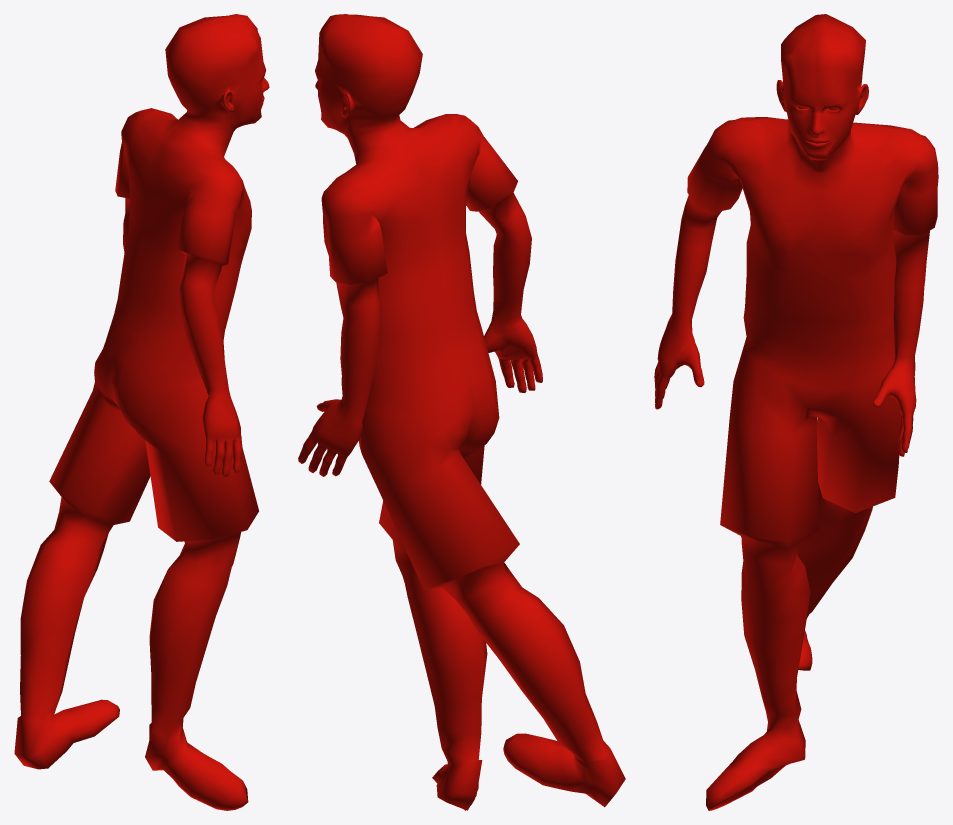
File: player_000048.obj
3 views of the same model, side by side, from view 1: azimuth 30°, elevation 25°; view 2: azimuth 150°, elevation 25°; view 3: azimuth 270°, elevation 25° (orthographic). The views are drawn at different scales.
Parts seen in each view (by area): view 1: soccerplayer.002_mesh.003; view 2: soccerplayer.002_mesh.003; view 3: soccerplayer.002_mesh.003.
Boxes of the visible parts, x1,y1,x2,y2 form: soccerplayer.002_mesh.003: [14, 14, 269, 810]; soccerplayer.002_mesh.003: [298, 14, 625, 810]; soccerplayer.002_mesh.003: [654, 14, 938, 810].
Bounding box in the file's own units: 1.12 × 3 × 0.9609.
